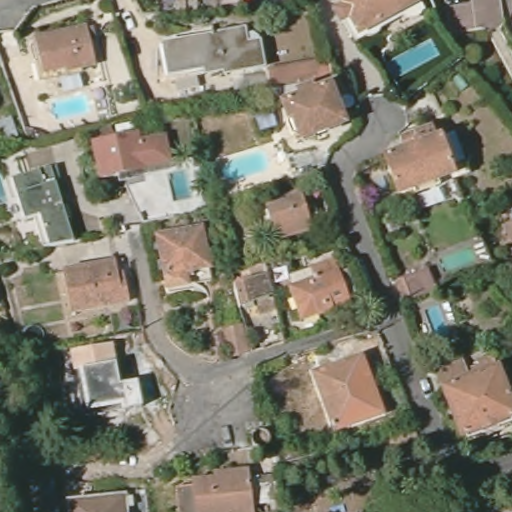pool: (386, 39, 441, 80), (219, 152, 269, 182), (440, 245, 481, 275), (51, 97, 92, 120), (168, 169, 194, 201), (426, 301, 448, 338), (1, 173, 15, 209), (342, 92, 356, 111)
